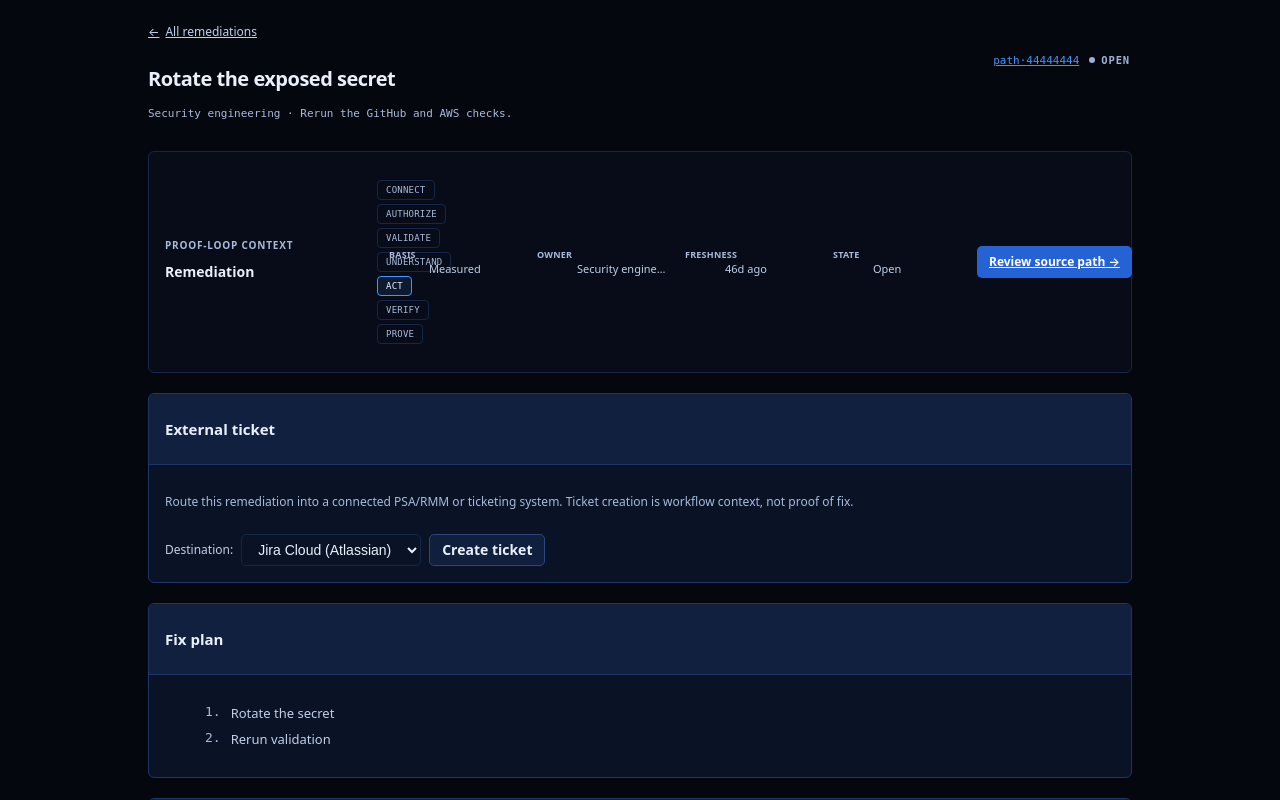
Scenario: RemediationDetail create ticket › creates a ticket against the selected ticketing integration
The image size is (1280, 800).
Check: the dropdown named "Select PSA/RMM destination for this remediation" shows "Jira Cloud (Atlassian)", box [241,534,421,566]
Click the button "Create ticket" at (487, 550), box [429,534,546,566]
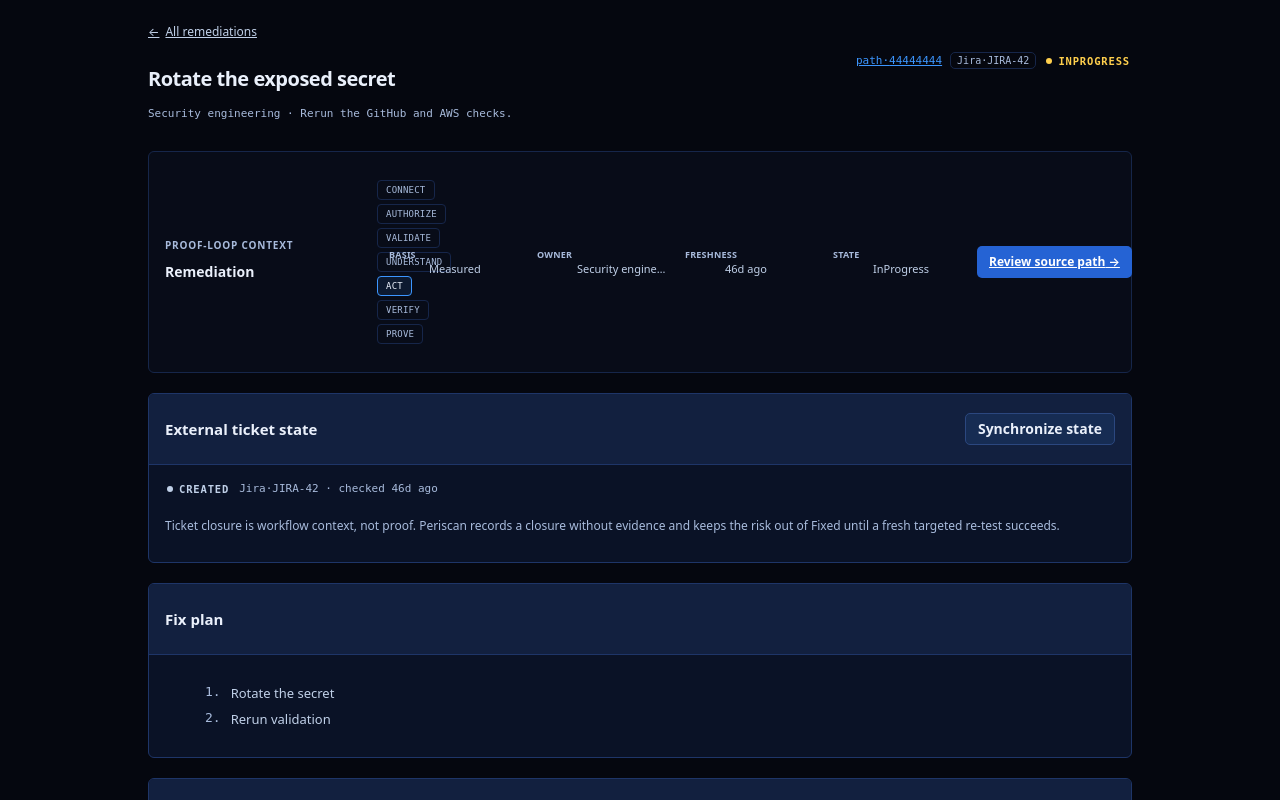
Check: the button "Synchronize state" is shown, box [965,413,1115,445]
